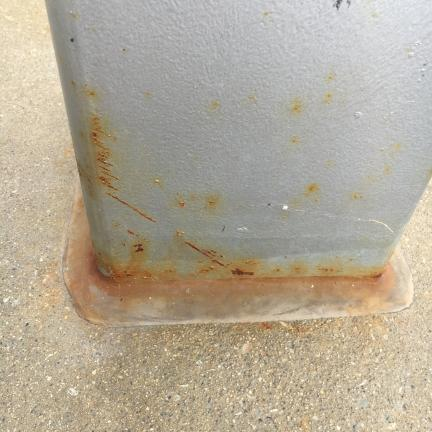besi_tidak_karat: (47, 0, 431, 286)
karat: (63, 178, 413, 326), (90, 115, 118, 190), (134, 244, 143, 252)
